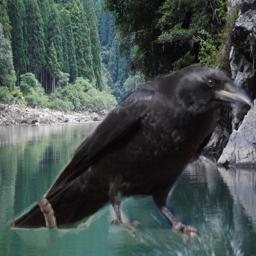Crow: (1, 62, 254, 253)
